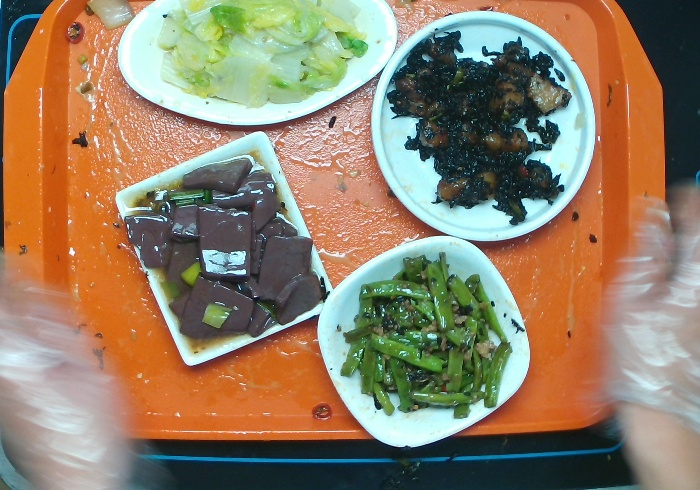HZYJPL-Si_Fang_Die: (115, 133, 336, 373)
HZYJPL-Si_Fang_Yuan_Die: (320, 235, 534, 453)
HZYJPL-Xiao_Yu_Die: (116, 1, 398, 128)
HZYJPL-Xiao_Yuan_Die: (372, 11, 598, 244)
